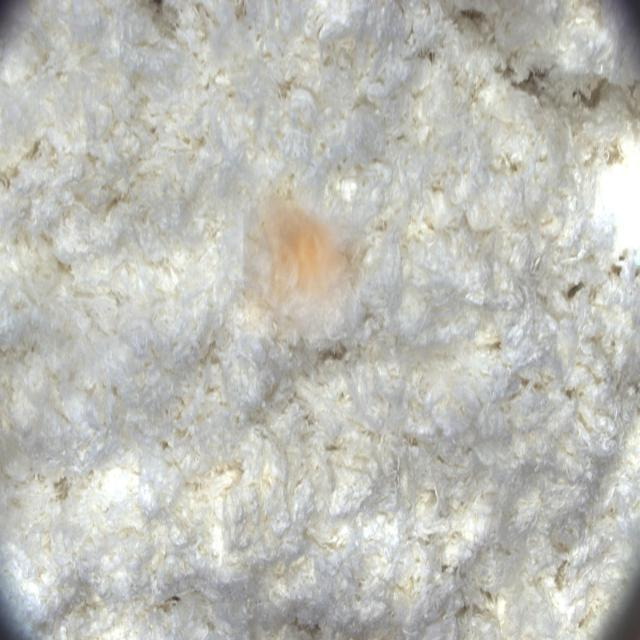dust: (244, 186, 367, 339)
